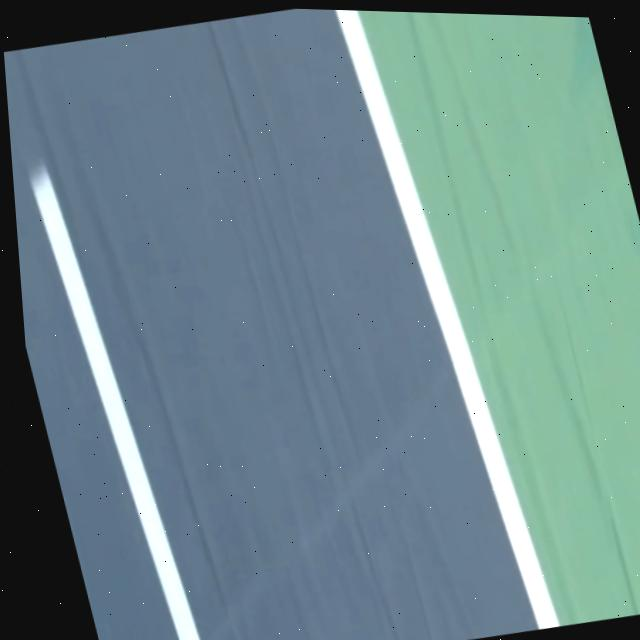center: (29, 166, 199, 640)
right: (335, 10, 559, 629)
